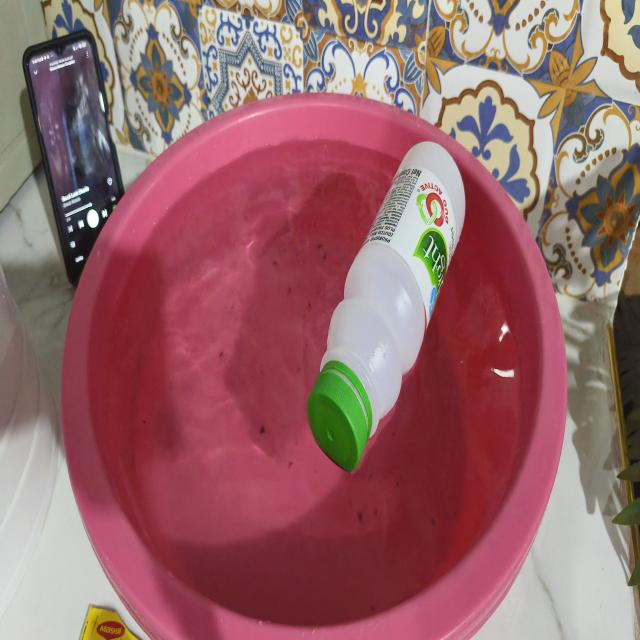Plastic Bottle: (308, 142, 465, 471)
